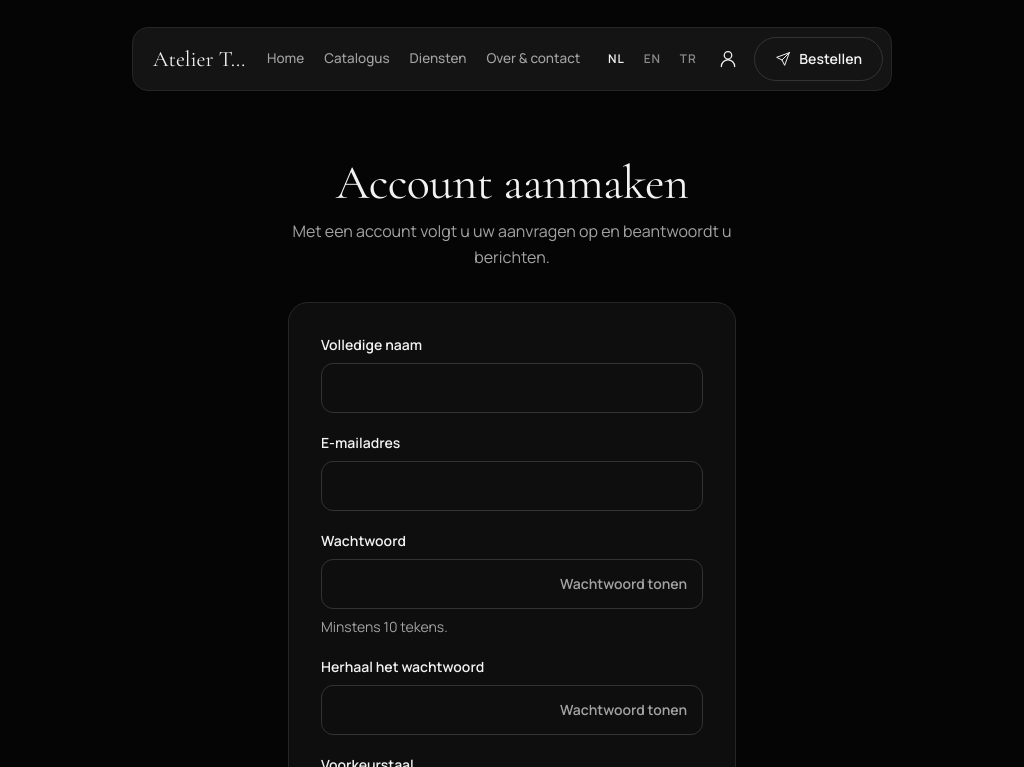
Test: register › shows field errors from the API next to the fields
Type "Anna" into the field labelled "Volledige naam" at (512, 388), box [321,363,703,413]
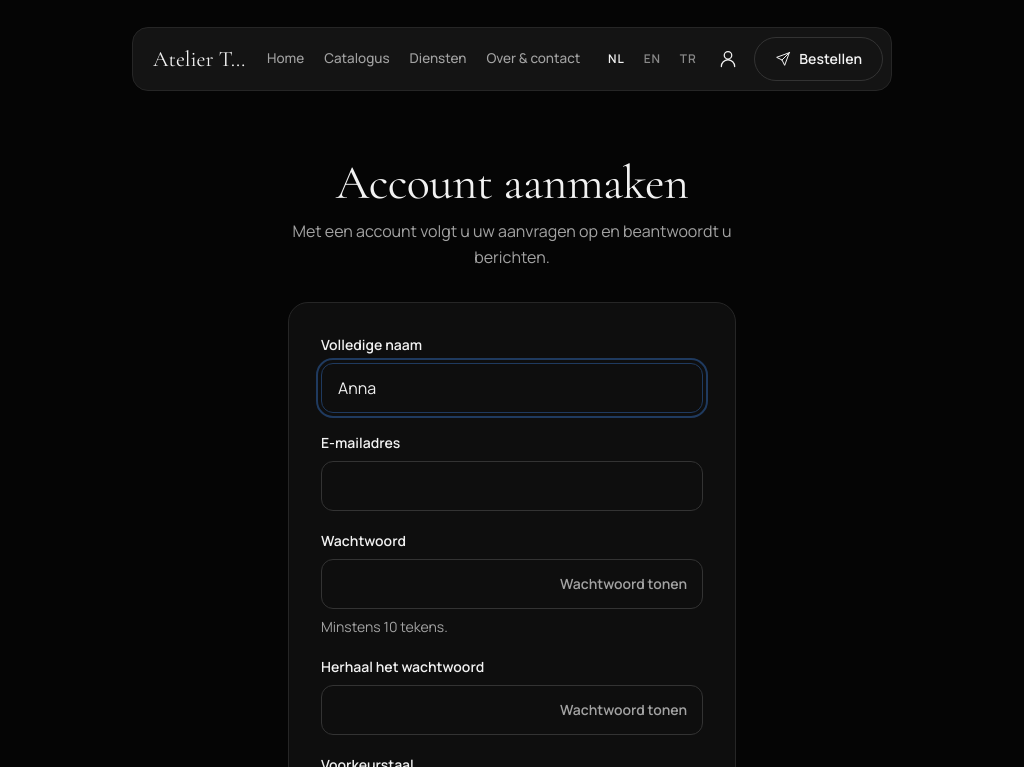
Type "anna@example.com" into the field labelled "E-mailadres" at (512, 486), box [321,461,703,511]
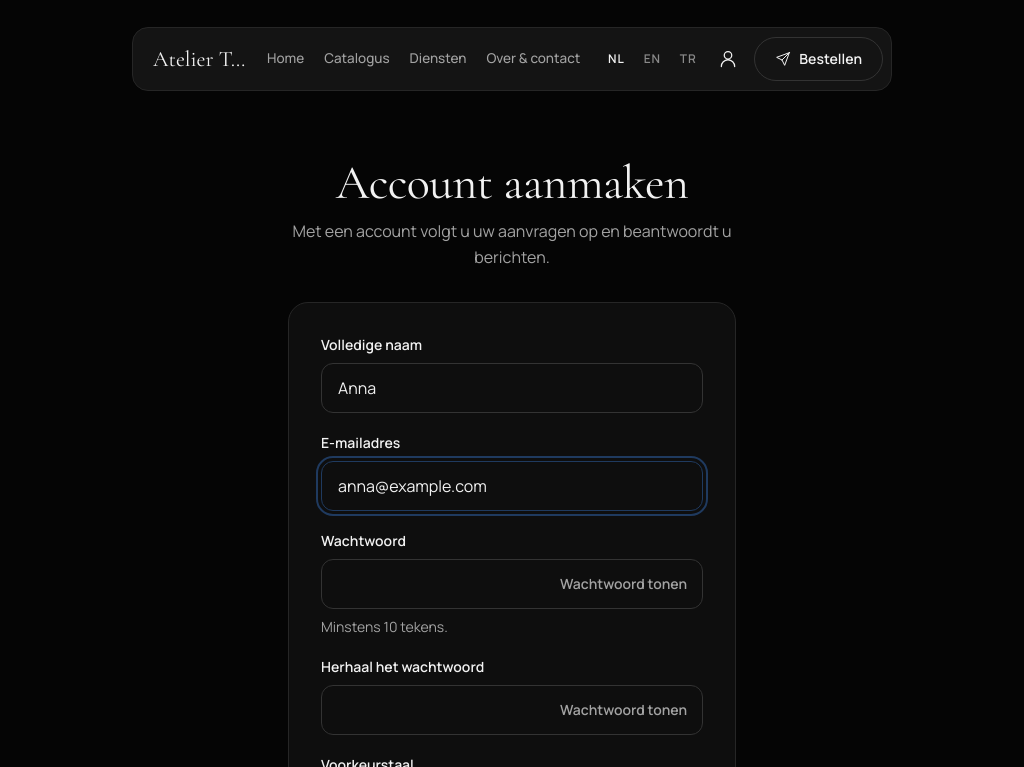
Type "long-enough-1" into the password field labelled "Wachtwoord" at (512, 584), box [321,559,703,609]
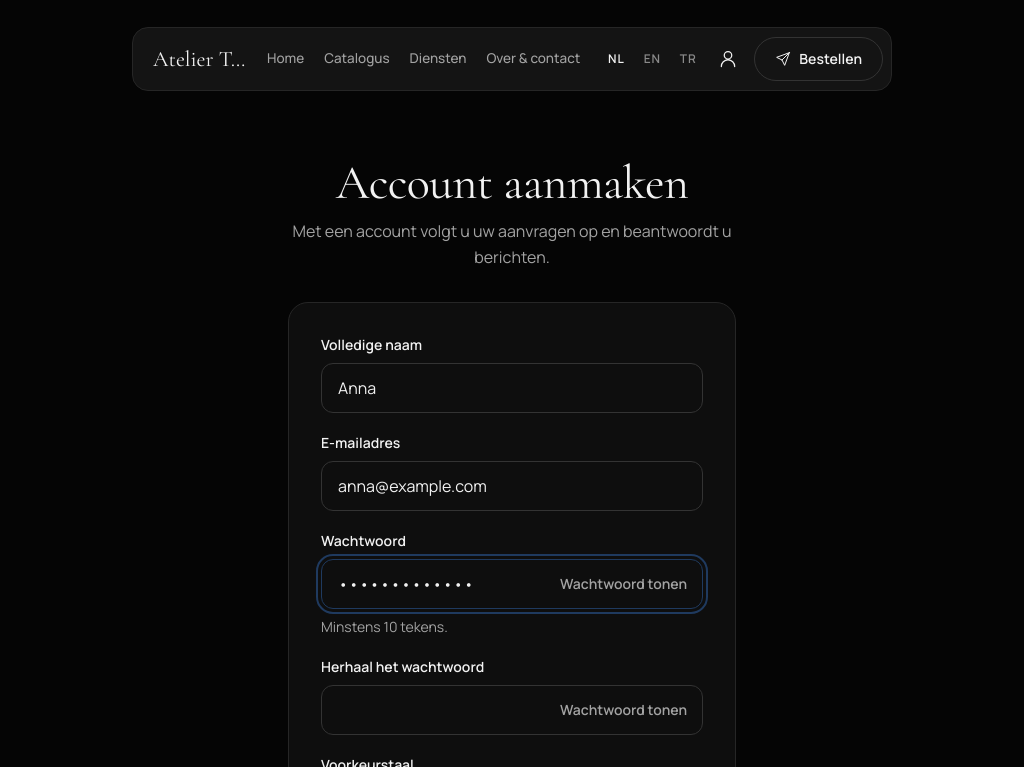
Type "long-enough-1" into the password field labelled "Herhaal het wachtwoord" at (512, 710), box [321,685,703,735]
(page scrolled)
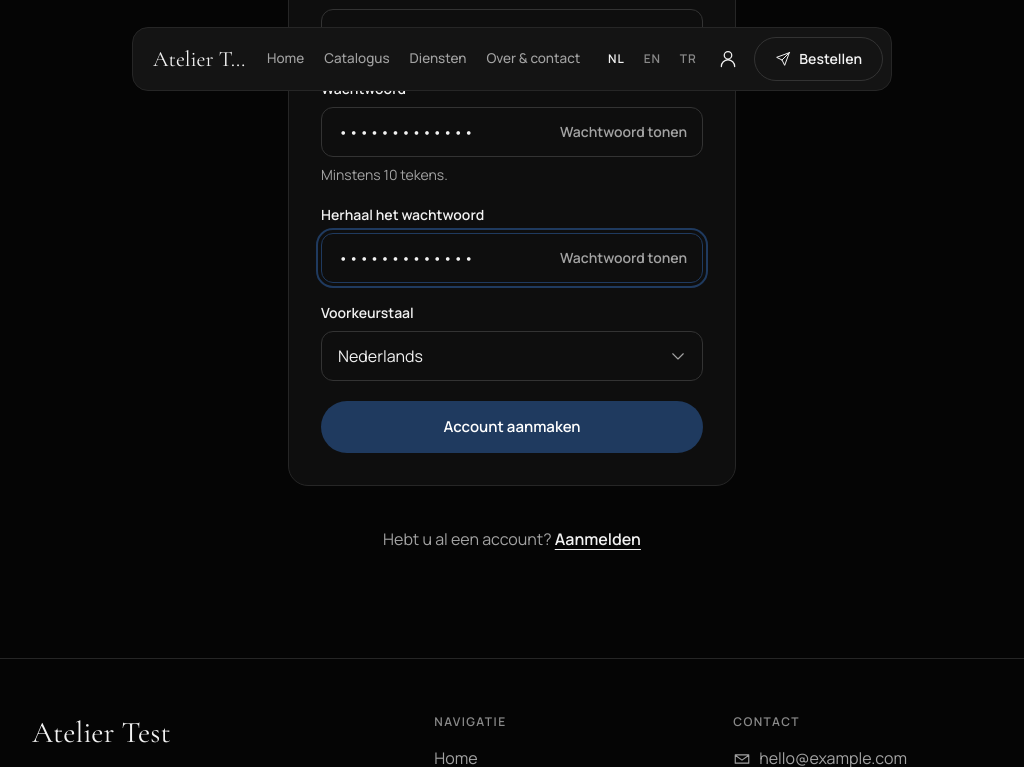
Click the button "Account aanmaken" at (512, 427), box [321,401,703,453]
(page scrolled)
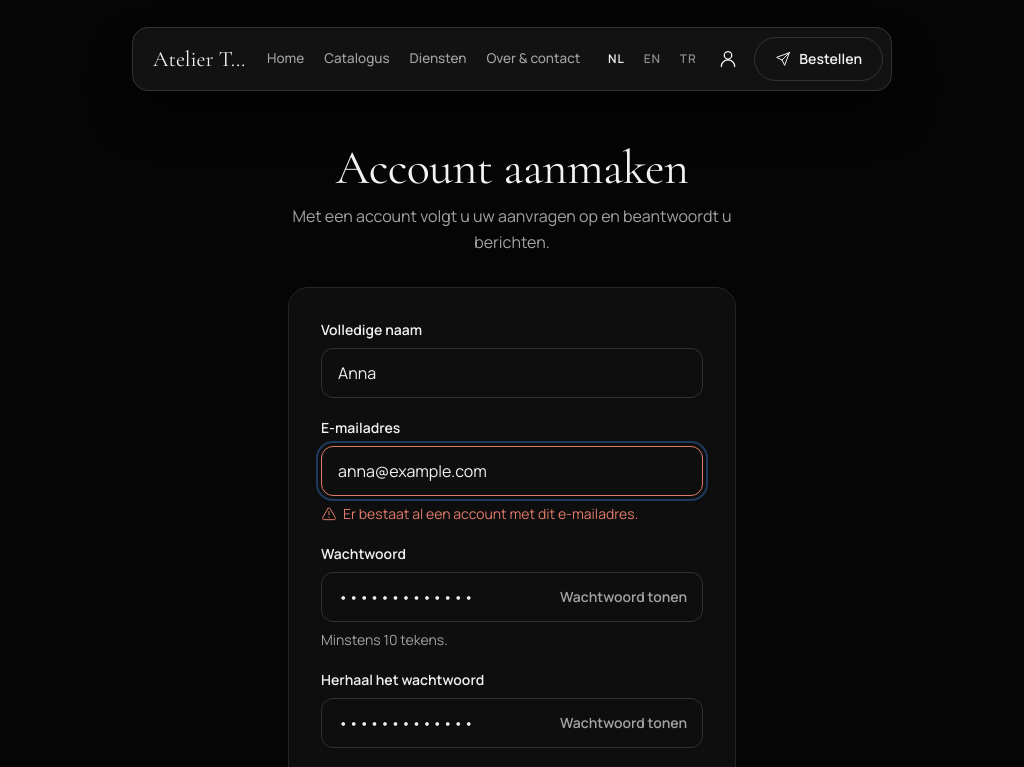
Result: the text "Er bestaat al een account met dit e-mailadres." is shown at [343,504,638,524]
